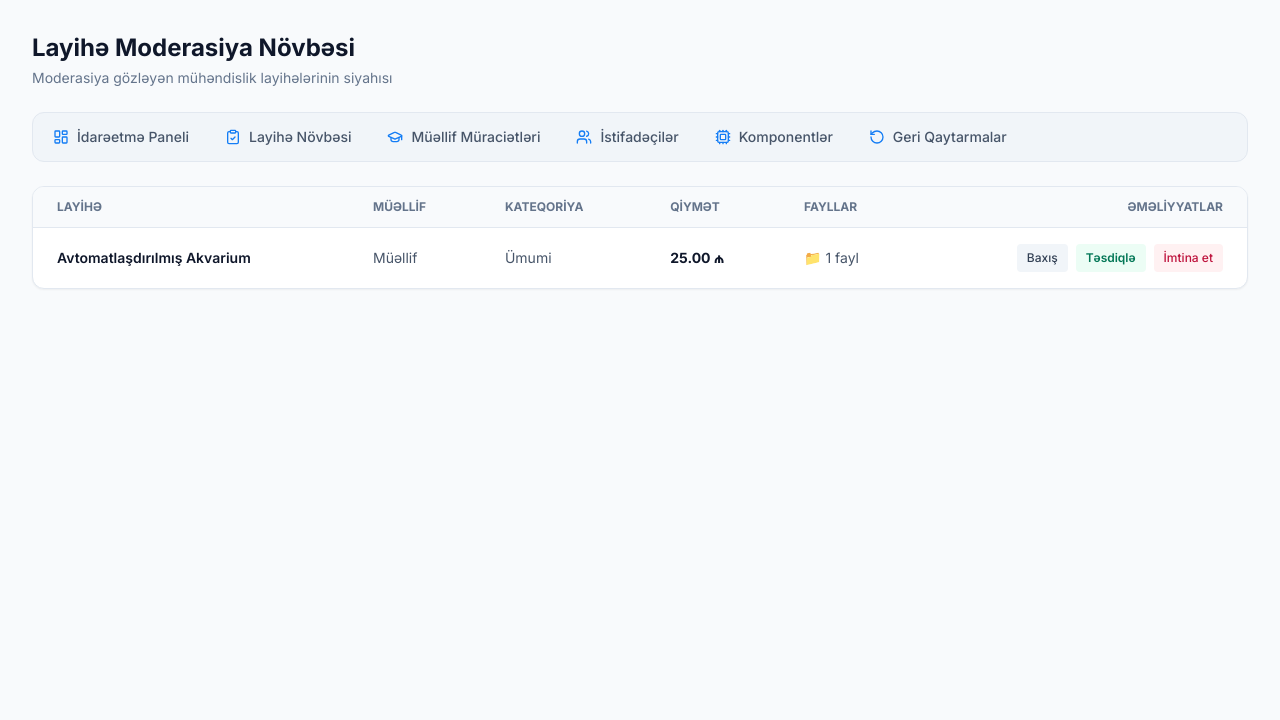
Test: ProjectReviewQueuePage Component › opens rejection dialog and rejects with mandatory reason
Later steps or results of the test are not shown.
Step 1. Click the button "İmtina et" → (1188,258), box left=1154, top=244, right=1223, bottom=272
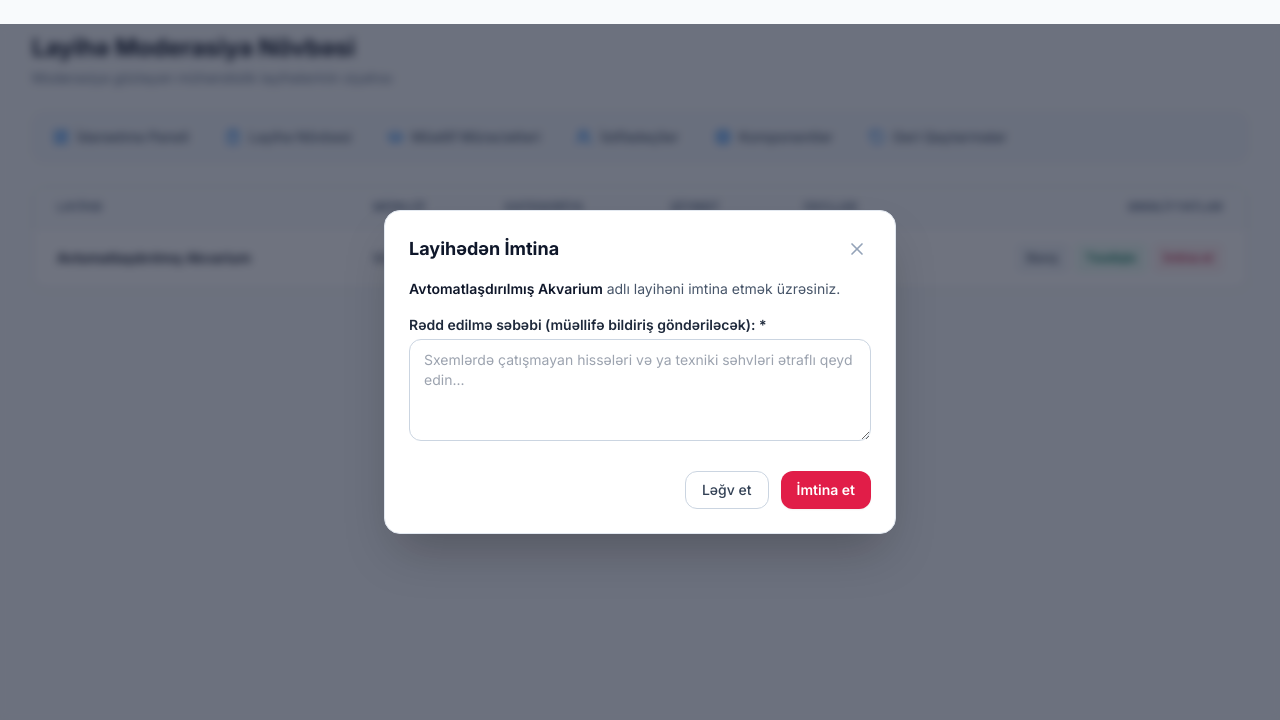
Result: the heading "Layihədən İmtina" is shown at left=409, top=235, right=559, bottom=263
